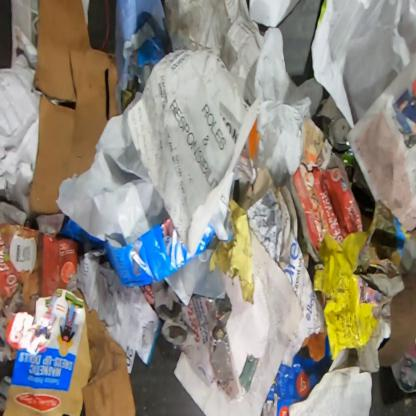cardboard: (30, 0, 120, 214), (1, 287, 93, 415), (0, 223, 80, 364), (71, 288, 137, 415), (290, 157, 364, 263), (260, 332, 334, 416)
metal: (327, 114, 356, 168)
soft_plastic: (59, 216, 215, 288), (253, 28, 323, 183)
